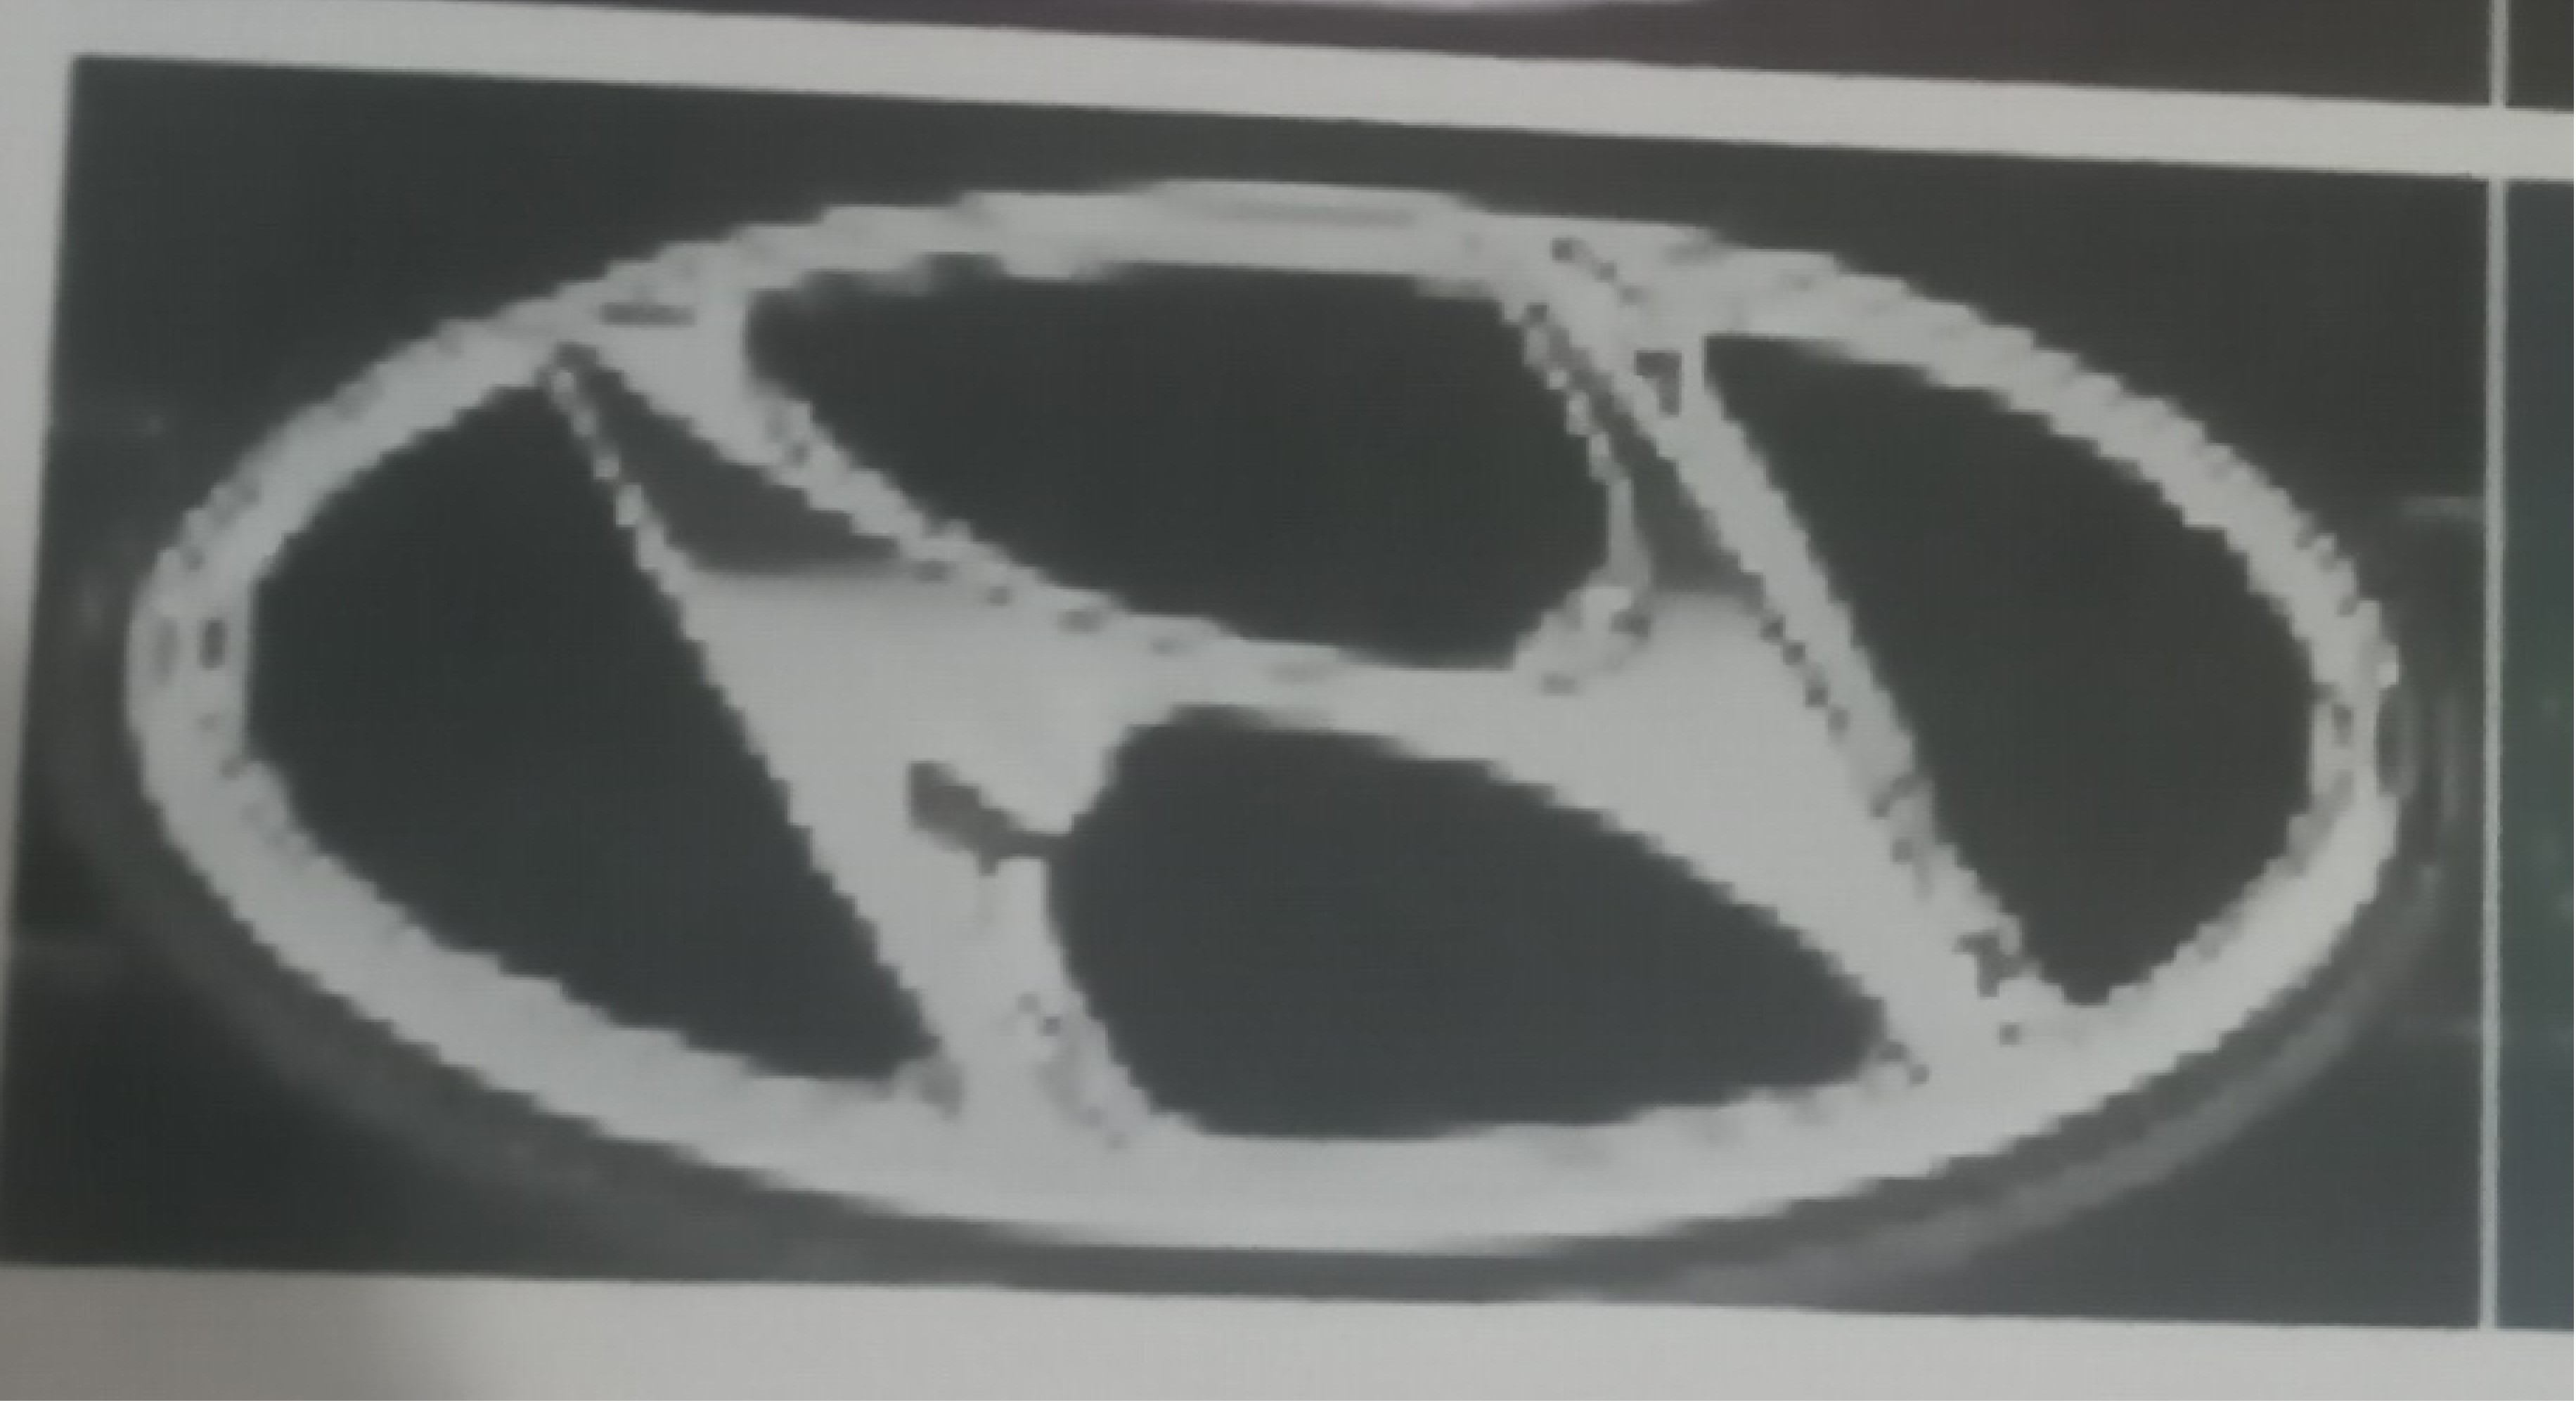Hyundai: (90, 133, 2467, 1313)
